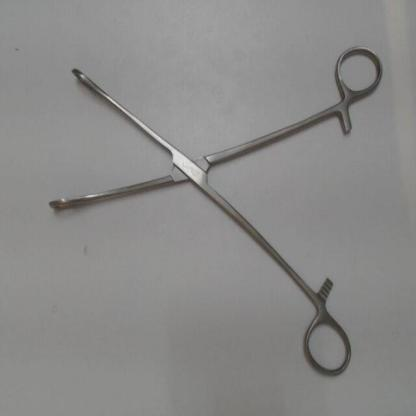Sponge Forceps: (42, 39, 388, 383)
